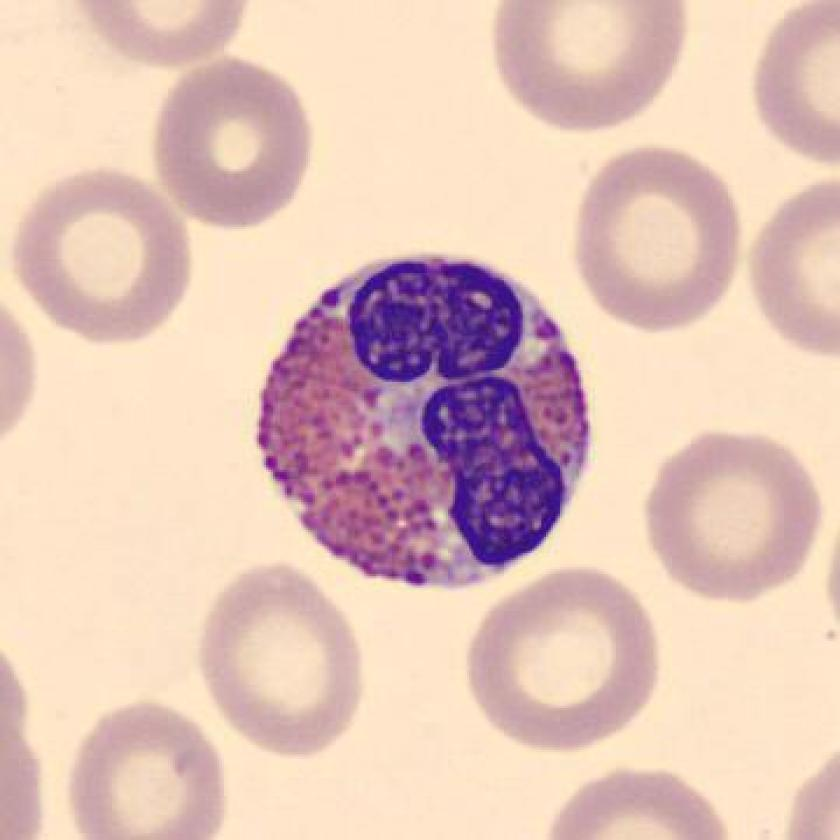eosinophil: (244, 239, 608, 598)
